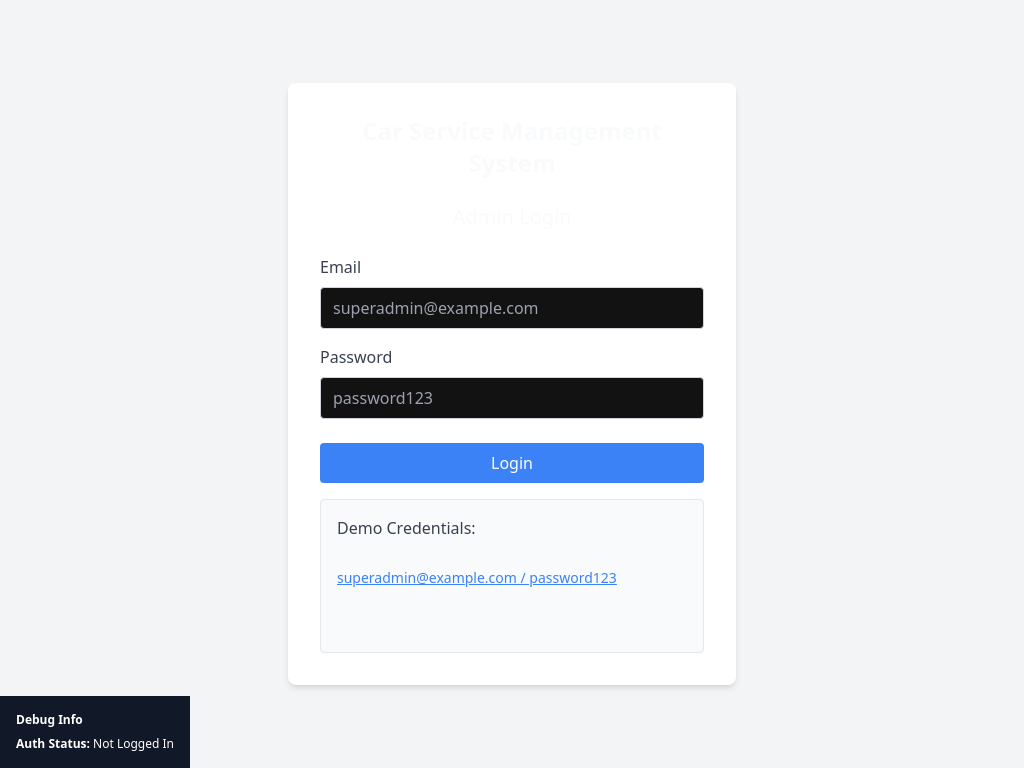
Dashboard › should show error message for invalid credentials
Type "wrong@email.com" into the field labelled "Email" at (512,308), box 320,287 -> 704,329
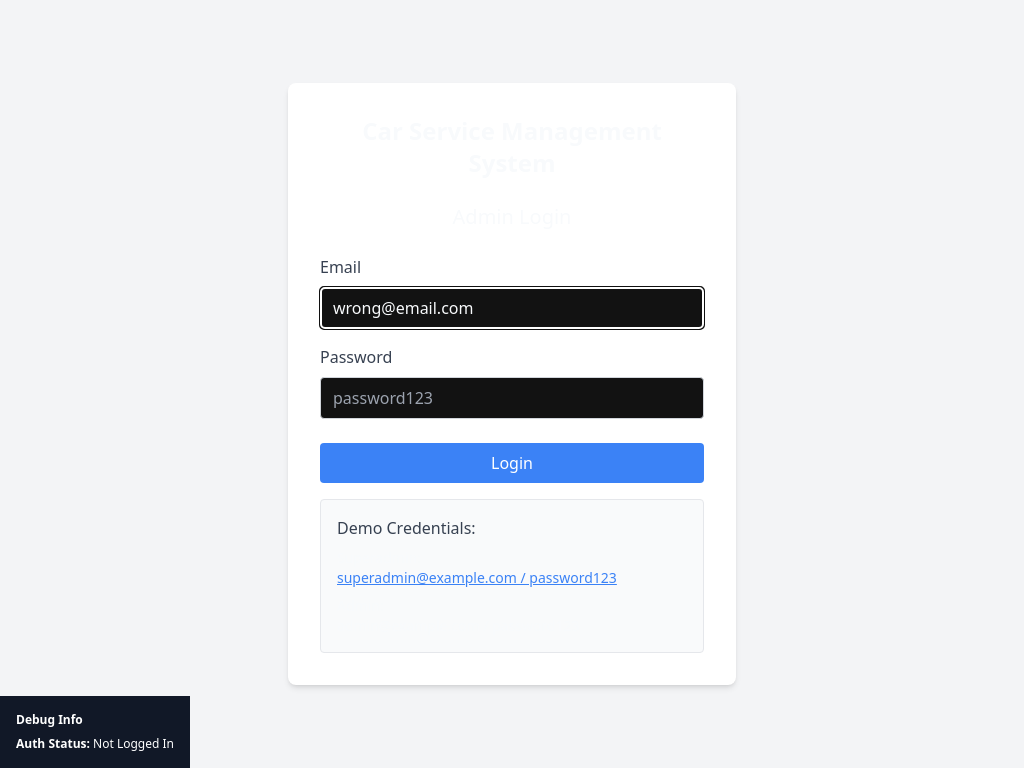
Type "wrongpassword" into the password field labelled "Password" at (512,398), box 320,377 -> 704,419
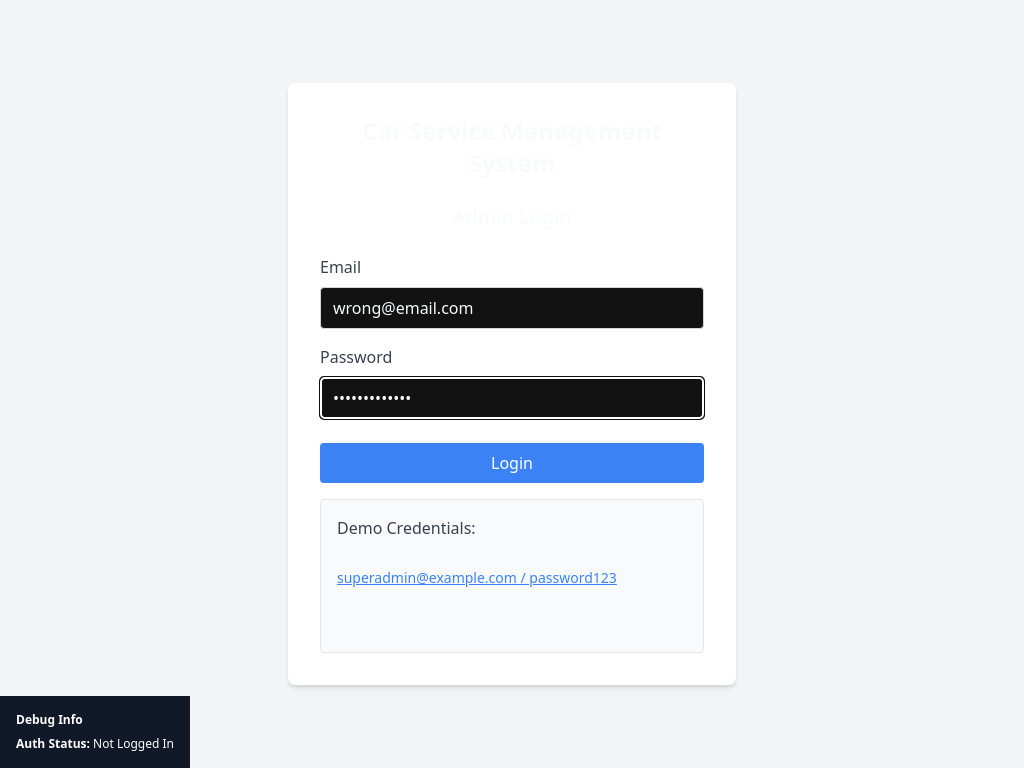
Click the submit button at (512,463), box 320,443 -> 704,483
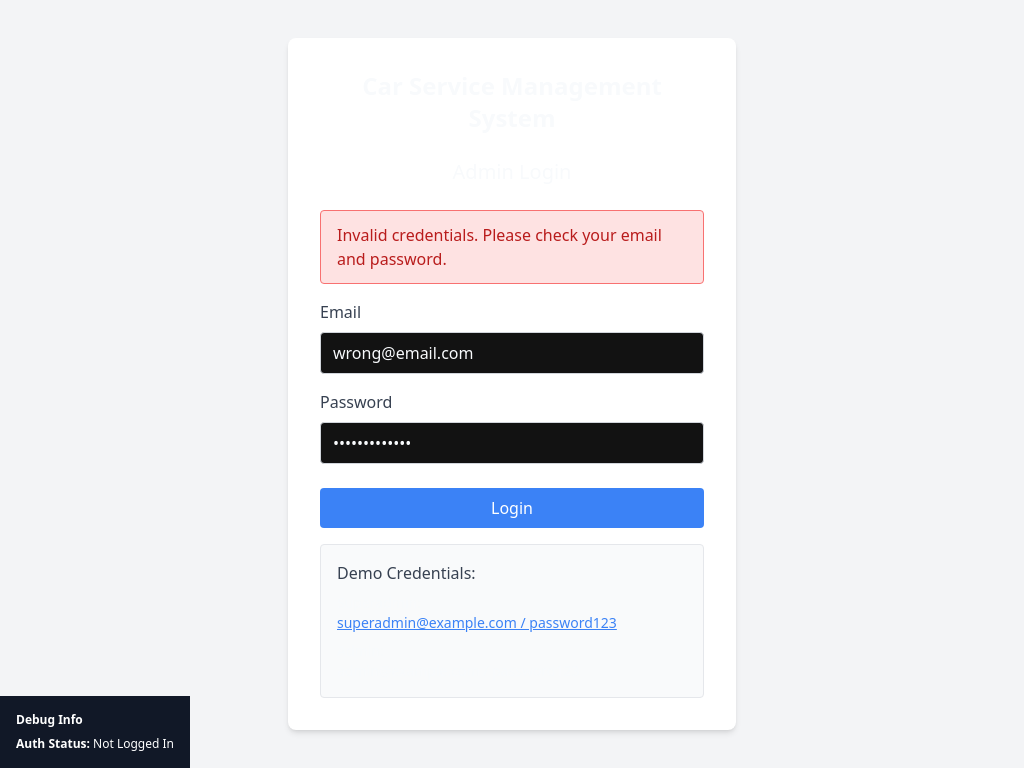
Expected: the text "Invalid credentials" is shown, 337,224 -> 662,270
